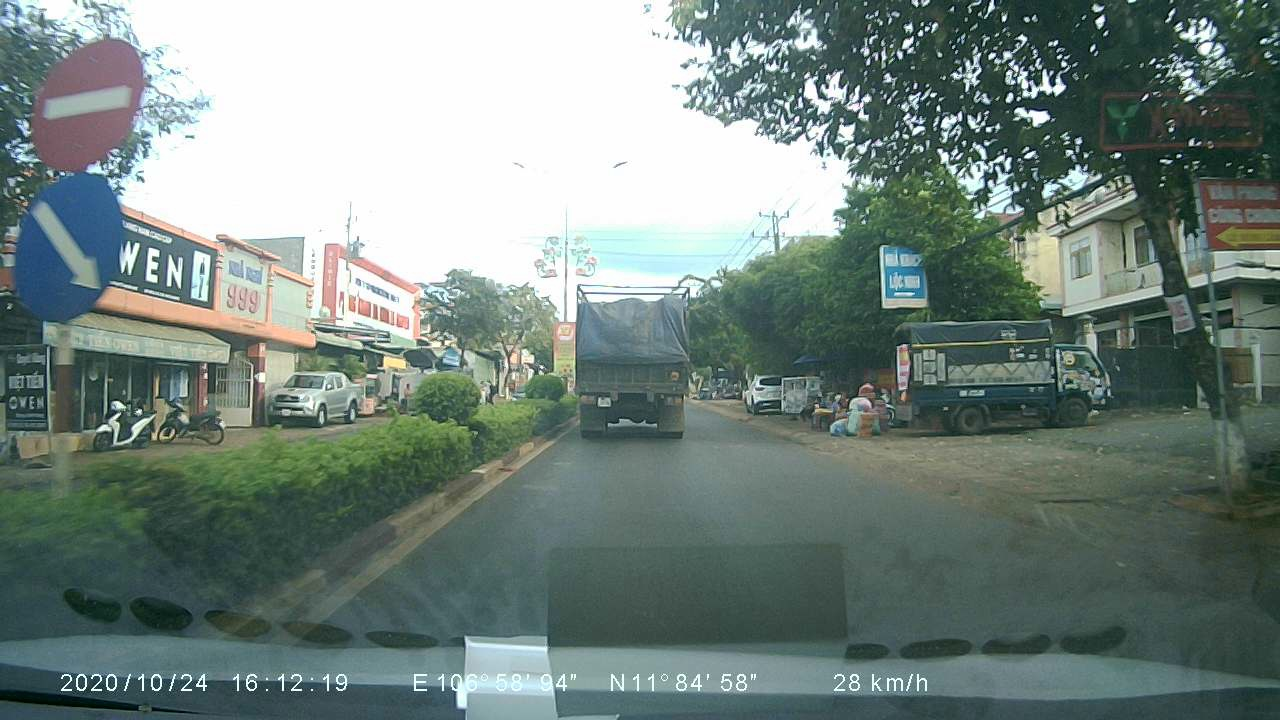Cam di nguoc chieu: (32, 37, 140, 172)
Huong di phai re phai: (10, 172, 126, 322)
